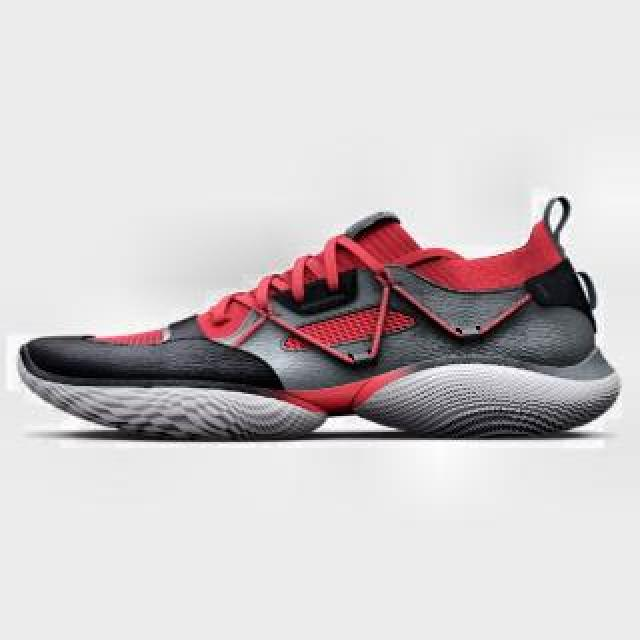shoe: (19, 198, 619, 440)
